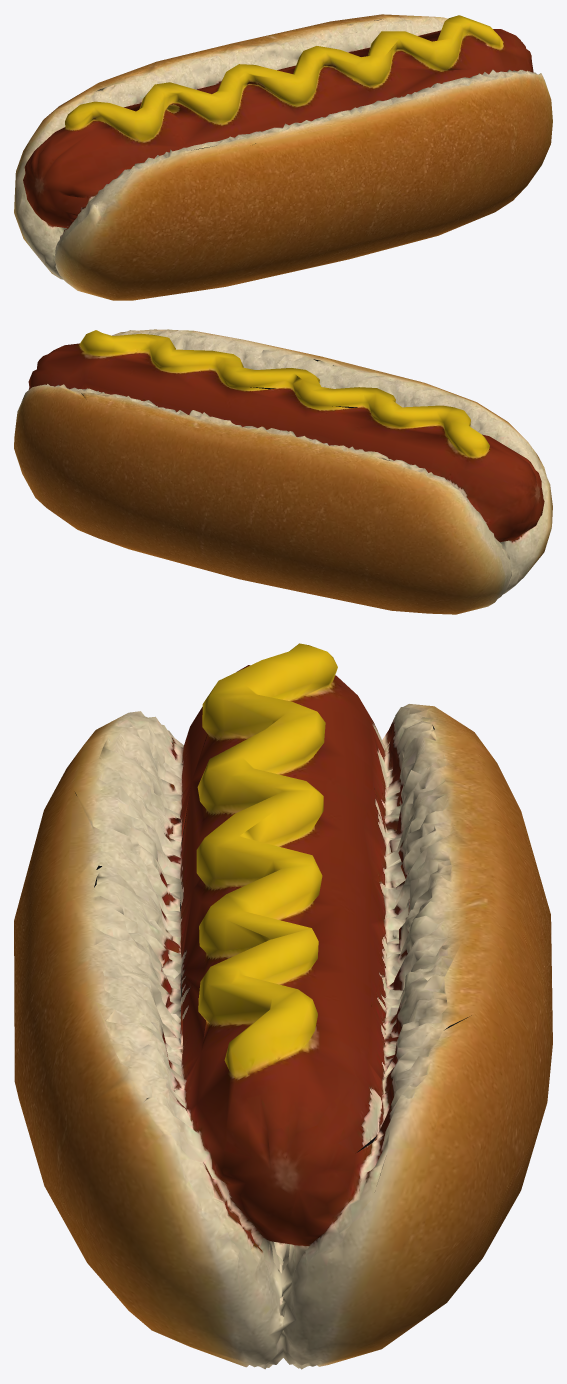
Rendered from food-hotdog.glb.
3 views of the same model, one above another, from view 1: azimuth 30°, elevation 25°; view 2: azimuth 150°, elevation 25°; view 3: azimuth 270°, elevation 25° (orthographic). The views are drawn at different scales.
Visible parts, largest first — view 1: Model; view 2: Model; view 3: Model.
Part boxes in pixels (x1=…): Model: x1=14, y1=14, x2=552, y2=300; Model: x1=14, y1=329, x2=552, y2=614; Model: x1=14, y1=643, x2=552, y2=1369.
Size of the model in its own units: 1.9 by 0.6566 by 0.9044.
Materials: 1 (1 with a texture image).
